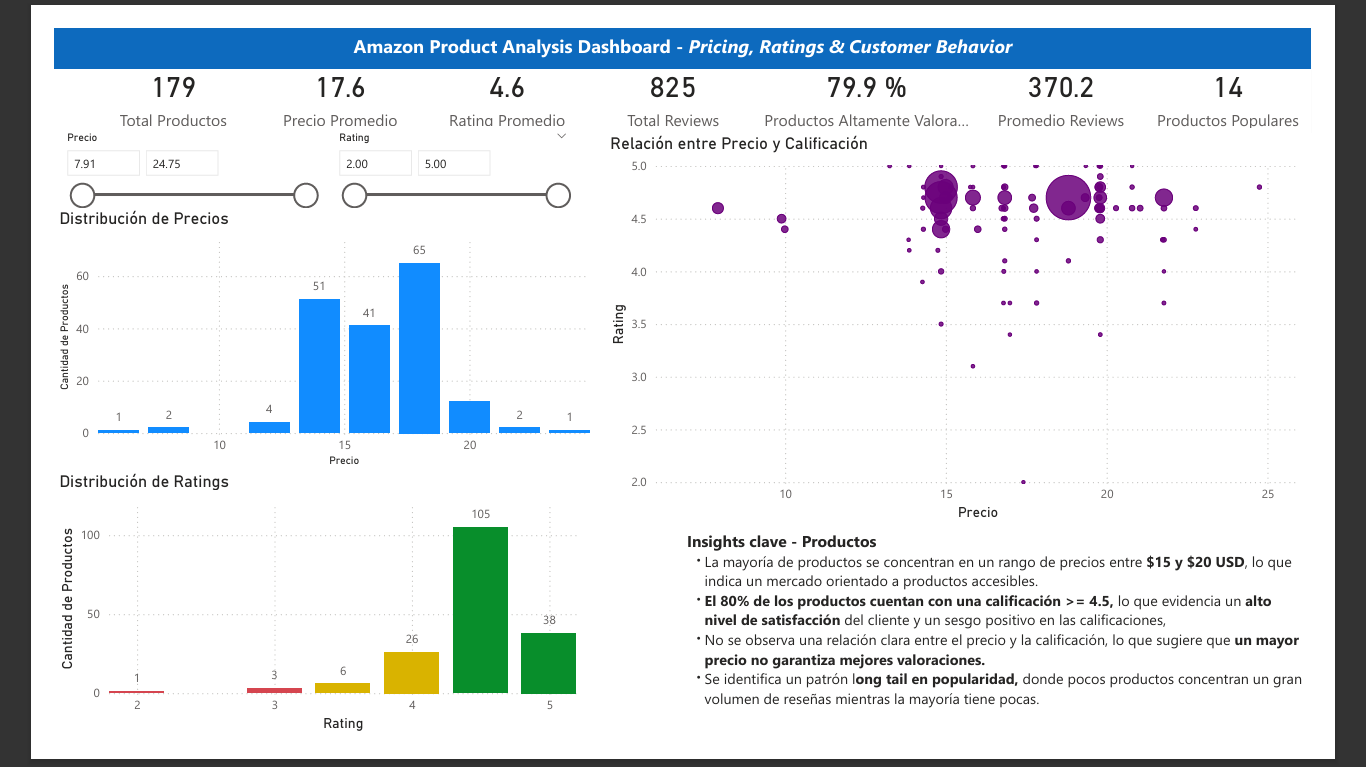

What the dashboard file says about the page in this screenshot:
{"tool":"powerbi","page":{"name":"Página 1","canvas":[1280,720],"ordinal":0},"visuals":[{"type":"card","fields":{"Values":["Products.Total Products"]},"box":[35.7,30.6,170,75],"z":0},{"type":"card","fields":{"Values":["Products.Total Reviews"]},"box":[545.7,30.6,168.6,75],"z":1000},{"type":"card","fields":{"Values":["Products.Precio Promedio"]},"box":[205.7,30.6,170,75],"z":2000},{"type":"card","fields":{"Values":["Products.Rating Promedio"]},"box":[375.7,30.6,170,75],"z":3000},{"type":"columnChart","title":"Distribución de Ratings","fields":{"Category":["Products.Rating (binning)"],"Y":["CountNonNull(Products.ASIN)"]},"box":[0,451.4,537.1,268.6],"z":4000},{"type":"scatterChart","title":"Relación entre Precio y Calificación","fields":{"X":["Products.Price"],"Y":["Products.Rating"],"Size":["Sum(Products.Review Count)"]},"box":[561,107,719,398],"z":6000},{"type":"textbox","box":[639,506,641,194],"z":7000},{"type":"card","fields":{"Values":["Products.Productos Populares"]},"box":[1110,30.6,170,75],"z":8000},{"type":"card","fields":{"Values":["Products.Productos Altamente Valorados"]},"box":[714.3,30.6,225.7,75],"z":9000},{"type":"card","fields":{"Values":["Products.Promedio Reviews"]},"box":[940,30.6,170,75],"z":10000},{"type":"slicer","fields":{"Values":["Products.Price"]},"box":[0,100,277,96],"z":11000},{"type":"slicer","fields":{"Values":["Products.Rating"]},"box":[277,100,257,96],"z":12000},{"type":"textbox","box":[0,0,1280,41.4],"z":13000},{"type":"columnChart","title":"Distribución de Precios","fields":{"Y":["CountNonNull(Products.ASIN)"],"Category":["Products.Price (ubicaciones)"]},"box":[0,182.9,550,268.6],"z":13500}]}

Visuals, with their boxes in screenshot pixels (x1, y1, x2, y2), scaled from the page's 1280x720 canvas onto the 1366x767 screenshot:
card - Products.Total Products: BBox(38, 33, 220, 112)
card - Products.Total Reviews: BBox(582, 33, 762, 112)
card - Products.Precio Promedio: BBox(220, 33, 401, 112)
card - Products.Rating Promedio: BBox(401, 33, 582, 112)
"Distribución de Ratings" columnChart: BBox(0, 481, 573, 766)
"Relación entre Precio y Calificación" scatterChart: BBox(599, 114, 1365, 538)
textbox: BBox(682, 539, 1365, 746)
card - Products.Productos Populares: BBox(1185, 33, 1365, 112)
card - Products.Productos Altamente Valorados: BBox(762, 33, 1003, 112)
card - Products.Promedio Reviews: BBox(1003, 33, 1185, 112)
slicer - Products.Price: BBox(0, 107, 296, 209)
slicer - Products.Rating: BBox(296, 107, 570, 209)
textbox: BBox(0, 0, 1365, 44)
"Distribución de Precios" columnChart: BBox(0, 195, 587, 481)
